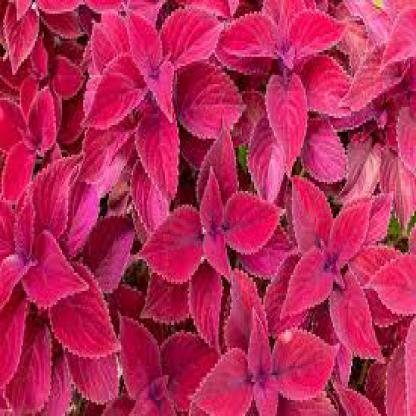Bunga Coleus: (7, 21, 414, 392)
